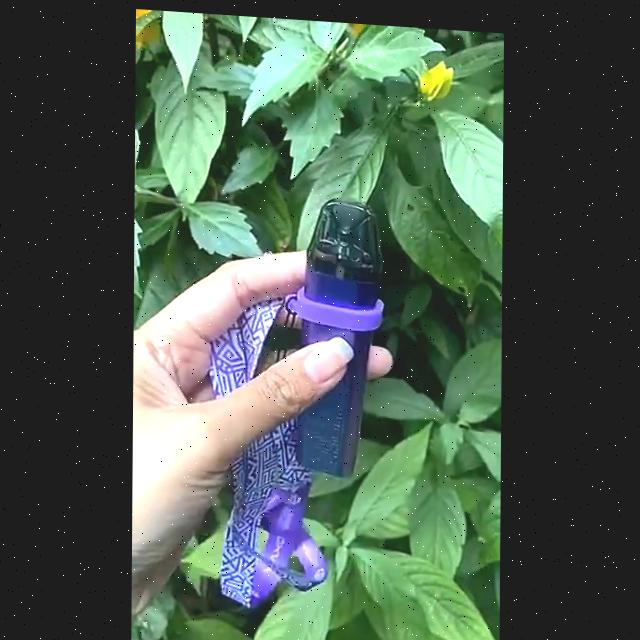vape: (292, 190, 386, 475)
